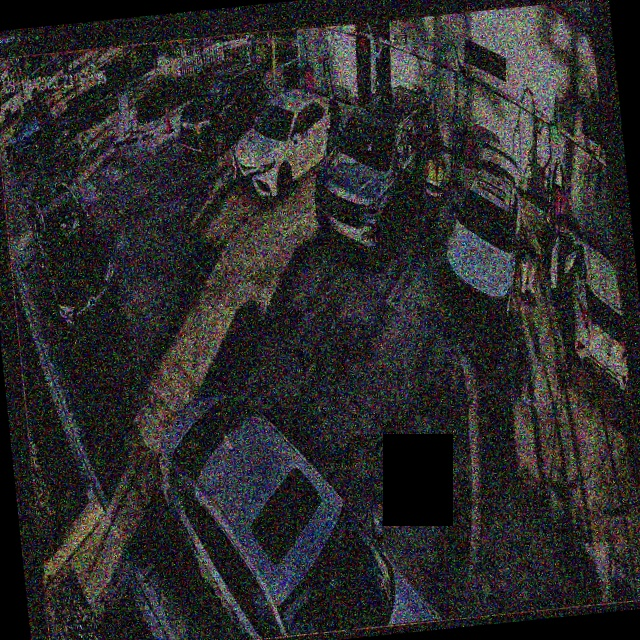Car: (149, 358, 444, 640), (305, 90, 449, 268), (435, 147, 534, 333), (224, 86, 343, 198), (172, 61, 270, 158)
